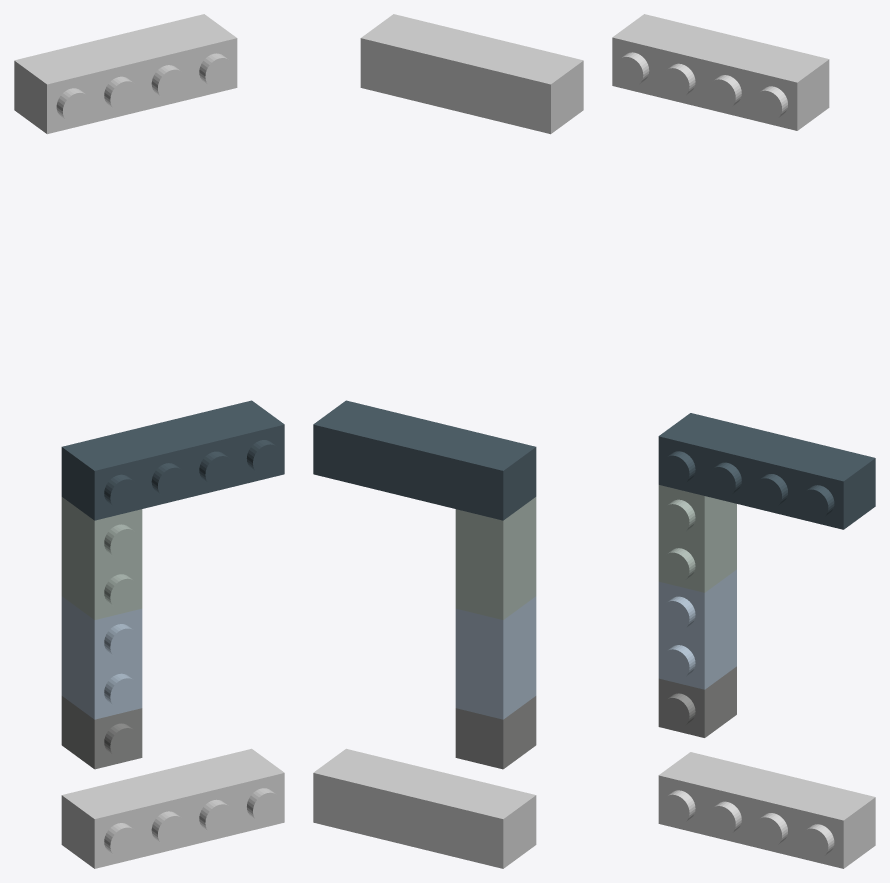
Rendered from current.glb.
The picture shows the model from 3 angles, left to right: view 1: azimuth 30°, elevation 25°; view 2: azimuth 150°, elevation 25°; view 3: azimuth 330°, elevation 25°; orthographic projection. The views are drawn at different scales.
Visible parts, largest first — view 1: world; view 2: world; view 3: world.
Boxes of the visible parts, bbox=[...] form: world: bbox=[14, 14, 284, 868]; world: bbox=[313, 14, 583, 868]; world: bbox=[612, 14, 875, 868].
Bounding box in the file's own units: 40 × 128 × 11.4.
